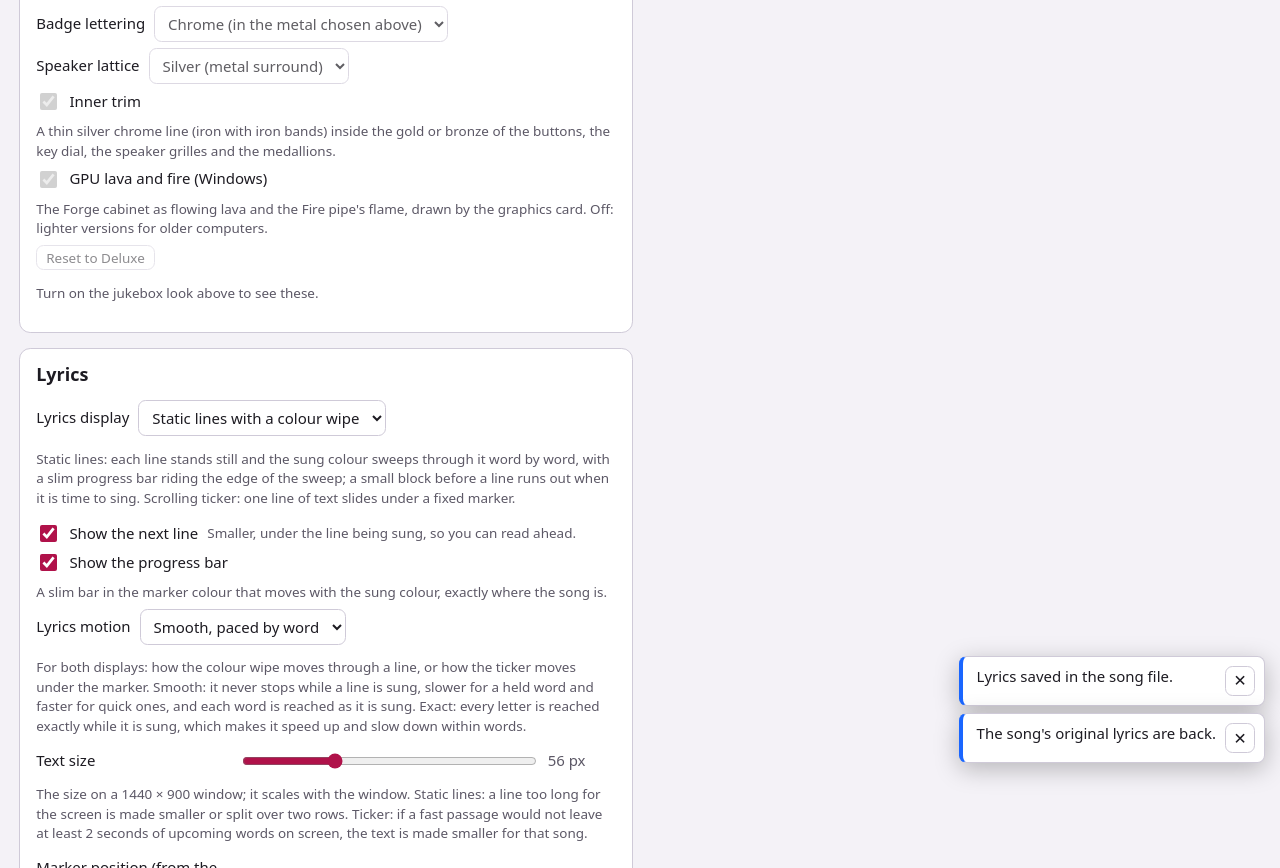
Test case: functional UI on the mock › settings: static lines with a colour wipe by default, the scrolling ticker on request (D-218)
This screenshot has width=1280, height=868.
(page scrolled)
expect the switch labelled "Show the next line" is checked: met, box x1=40 y1=525 x2=57 y2=542
expect the switch labelled "Show the next line" is enabled: met, box x1=40 y1=525 x2=57 y2=542
Select "Scrolling ticker" in the dropdown labelled "Lyrics display" at (262, 418), box x1=138 y1=400 x2=386 y2=436
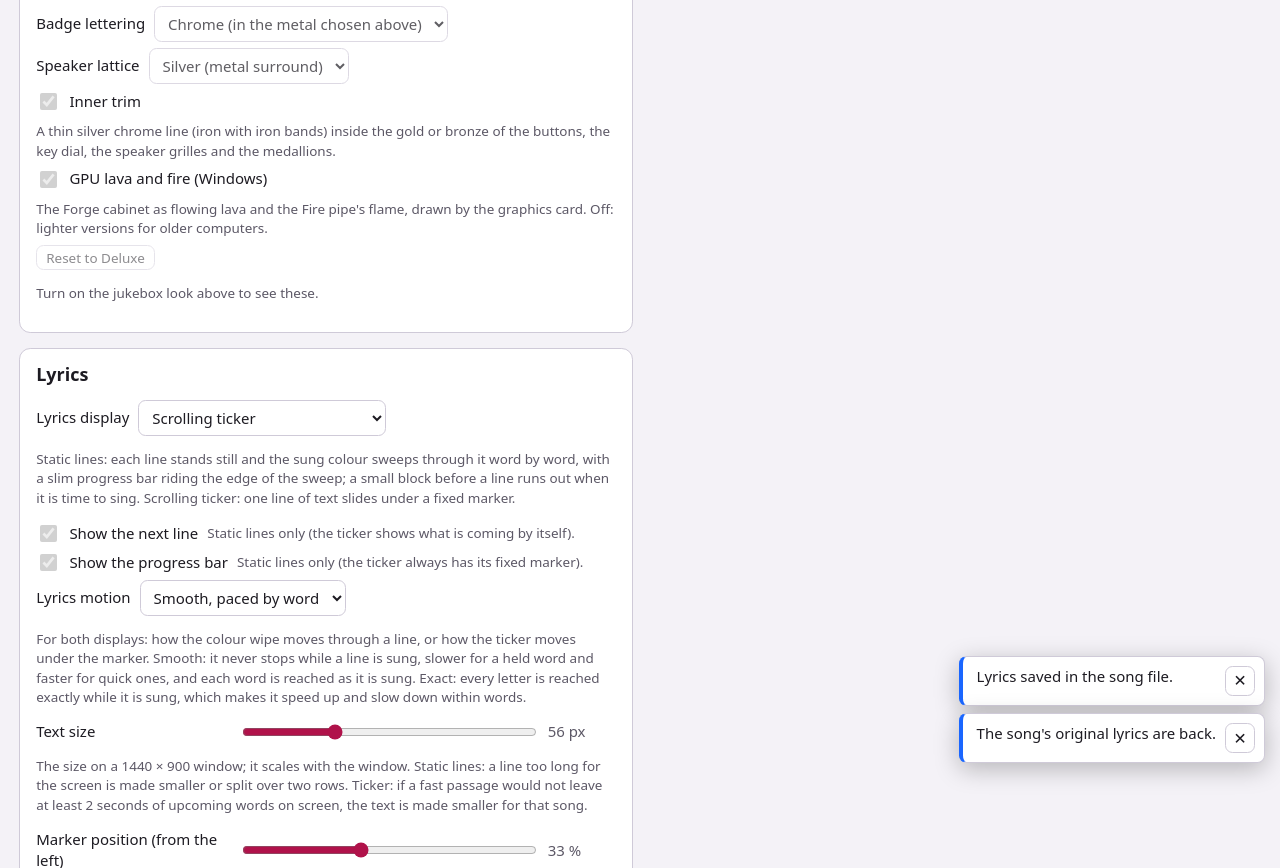
expect the slider labelled "Marker position (from the left)" is enabled: met, box x1=242 y1=842 x2=537 y2=858
